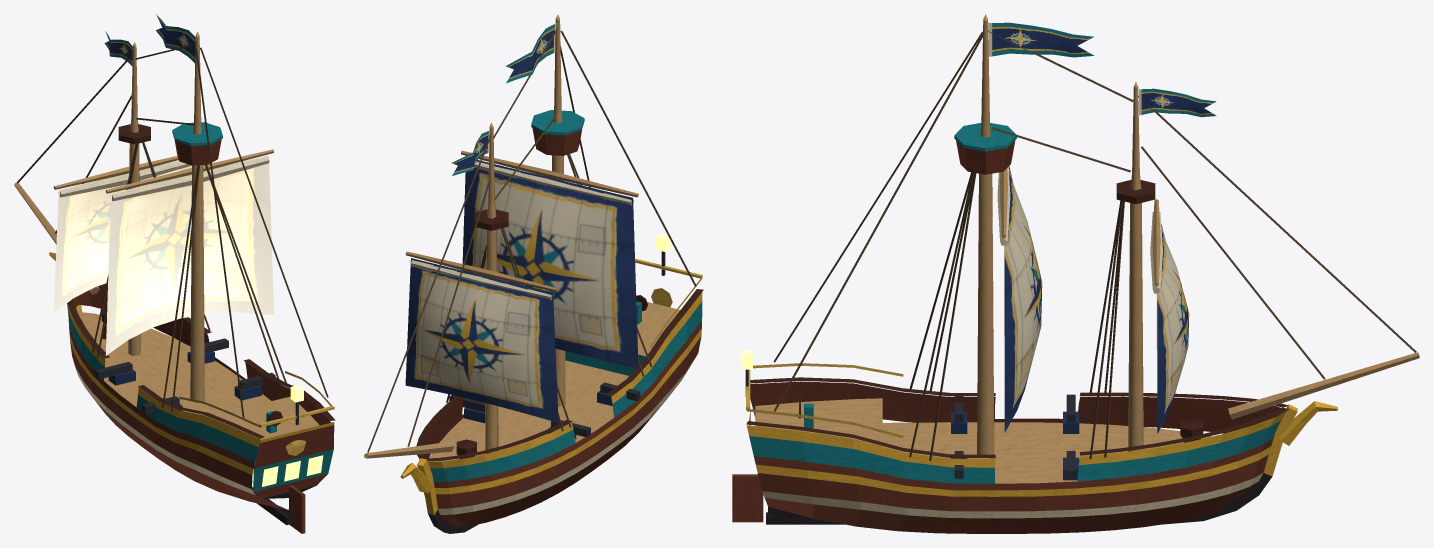
The model's file is brigantine_lod.glb.
3 views of the same model, side by side, from view 1: azimuth 30°, elevation 25°; view 2: azimuth 150°, elevation 25°; view 3: azimuth 270°, elevation 25° (orthographic). The views are drawn at different scales.
Parts seen in each view (by area): view 1: Hull, Sail, Sail_Fore, Sail_Furled, Sail_Furled_Fore, Yard, Flag, Yard_Fore, Flag_Fore; view 2: Hull, Sail, Sail_Fore, Flag, Yard, Sail_Furled, Yard_Fore, Sail_Furled_Fore, Flag_Fore; view 3: Hull, Sail, Sail_Fore, Flag, Flag_Fore.
Boxes of the visible parts, x1,y1,x2,y2 form: Hull: (14,31,335,533); Sail: (105,155,273,355); Sail_Fore: (53,160,191,312); Sail_Furled: (110,157,269,201); Sail_Furled_Fore: (58,161,191,197); Yard: (105,149,273,193); Flag: (156,14,195,62); Yard_Fore: (53,156,178,189); Flag_Fore: (104,31,132,65); Hull: (364,14,703,533); Sail: (462,160,638,369); Sail_Fore: (405,258,558,422); Flag: (506,23,556,83); Yard: (461,150,638,197); Sail_Furled: (474,161,633,205); Yard_Fore: (405,251,558,291); Sail_Furled_Fore: (410,260,553,300); Flag_Fore: (452,130,489,175); Hull: (732,14,1419,533); Sail: (1004,166,1042,432); Sail_Fore: (1156,224,1189,433); Flag: (988,22,1094,57); Flag_Fore: (1139,88,1216,117).
Bounding box in the file's own units: 7.88 × 19.06 × 23.33.
6 materials, 5 textured.
